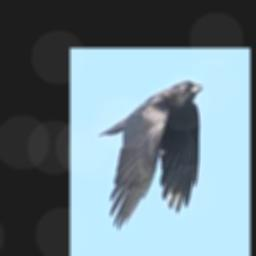Crow: (98, 79, 203, 231)
